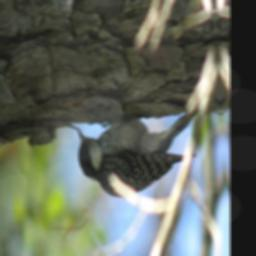Woodpecker: (75, 102, 203, 208)
